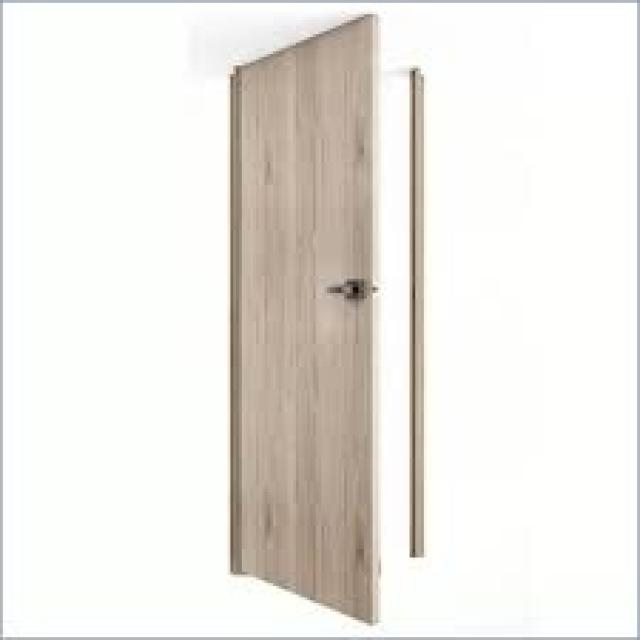door: (228, 14, 381, 629)
